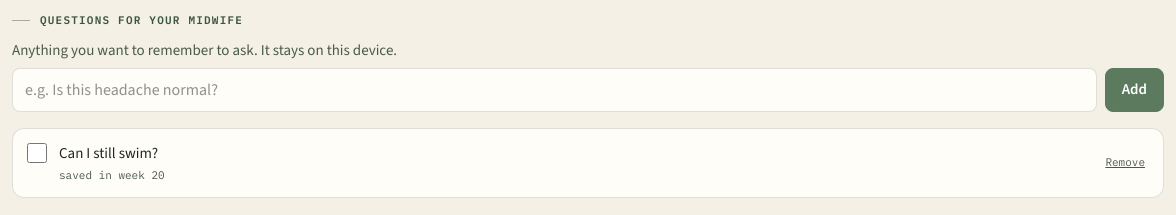
Test: questions for your midwife › ticking one off moves it to already asked rather than deleting it
Expected: the text "already asked" is not shown
Click the checkbox: {"x": 37, "y": 153} 27,143 -> 47,163
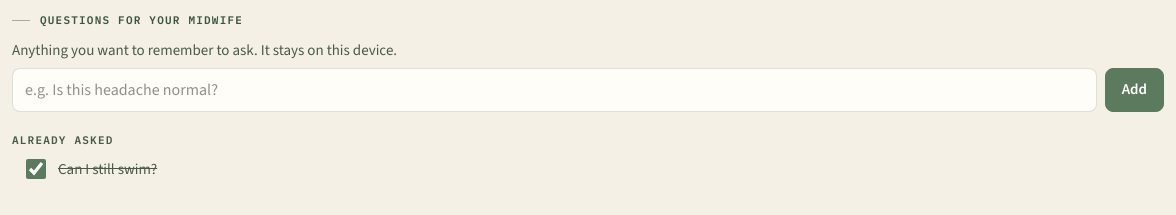
Expected: the text "Can I still swim?" is shown, 58,159 -> 157,179
Expected: the text "Already asked" is shown, 12,133 -> 114,147
